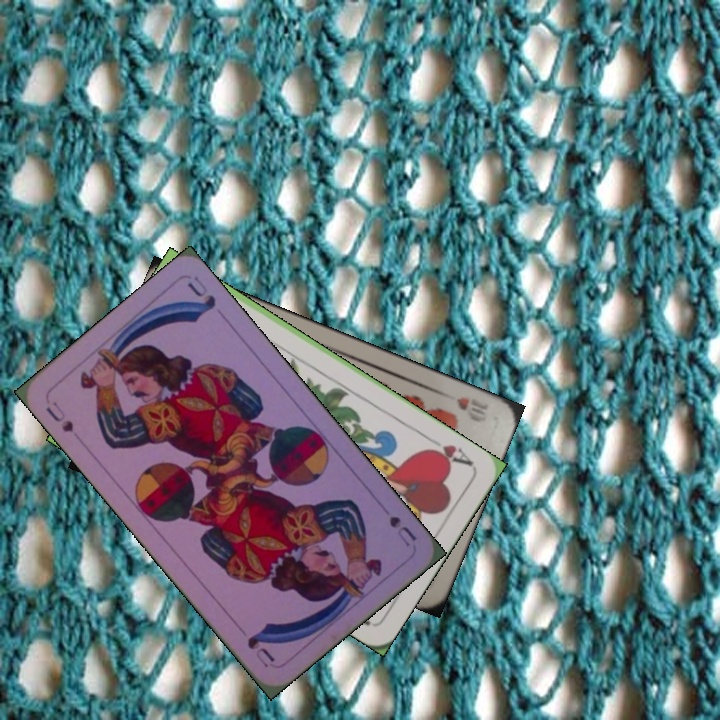H10: (452, 392, 491, 418)
HA: (421, 432, 476, 469)
SU: (385, 511, 420, 549), (41, 397, 76, 435)
